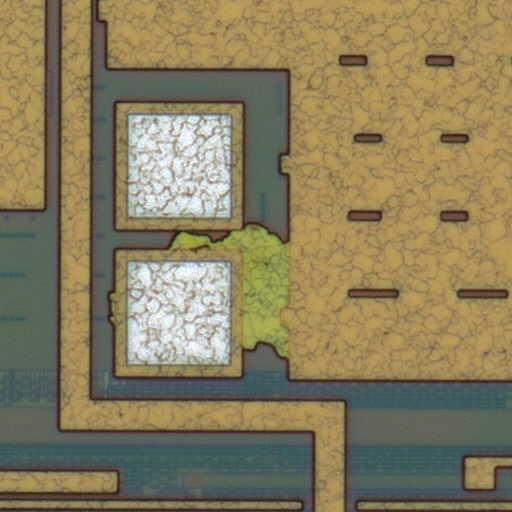BLOCK ETCH: (104, 215, 303, 371)
